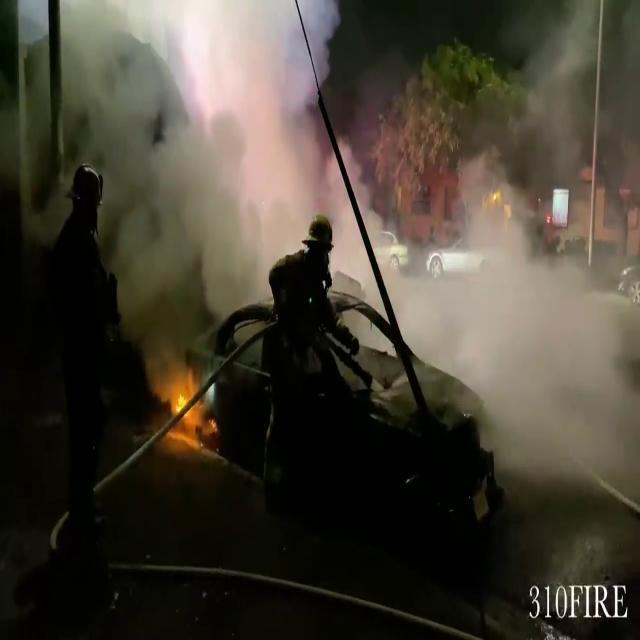Fire: (167, 363, 216, 441)
Smoke: (64, 0, 330, 316), (412, 152, 640, 505)
